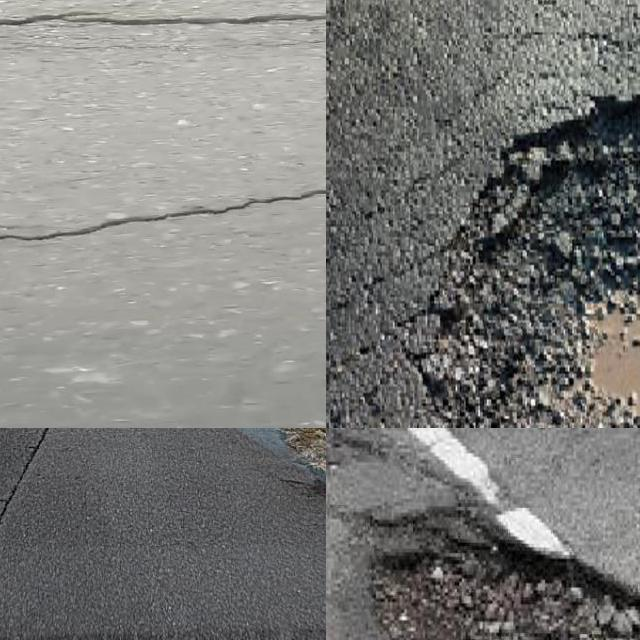Lubang: (437, 92, 640, 428), (366, 504, 640, 640)
Melintang: (0, 174, 326, 254), (0, 2, 326, 40)
Memanjang: (0, 428, 60, 563)
